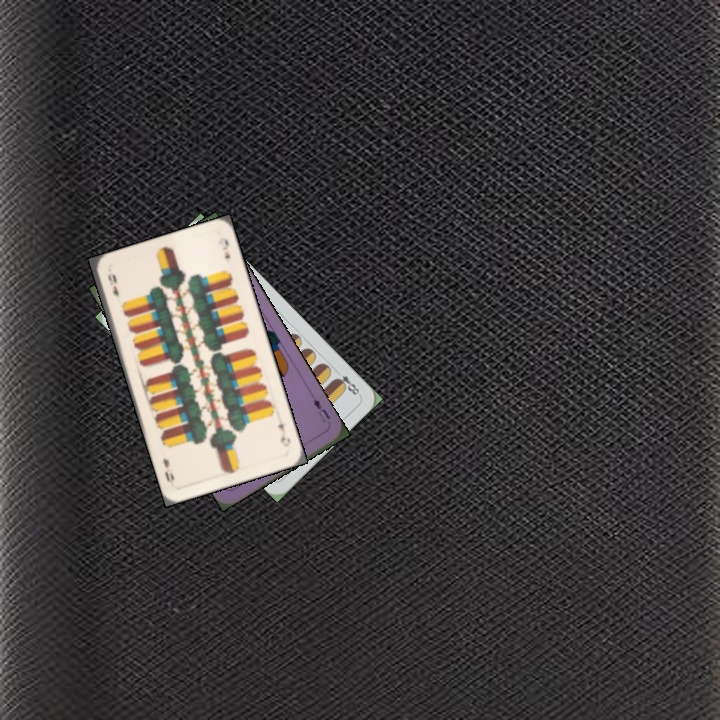E8: (331, 371, 363, 398)
E9: (274, 419, 293, 449), (103, 270, 121, 299)
EU: (309, 395, 333, 425)
